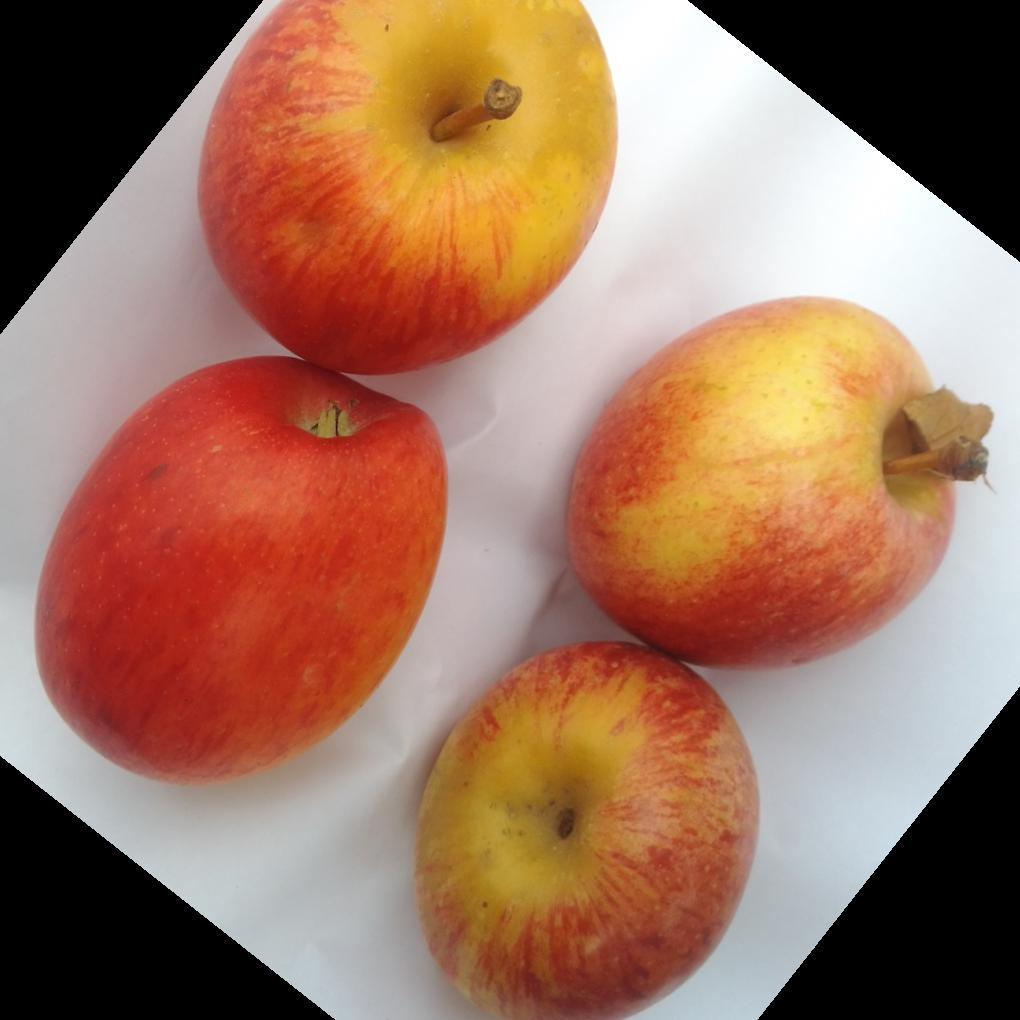FreshGuava: (34, 0, 620, 788), (414, 298, 995, 987)
